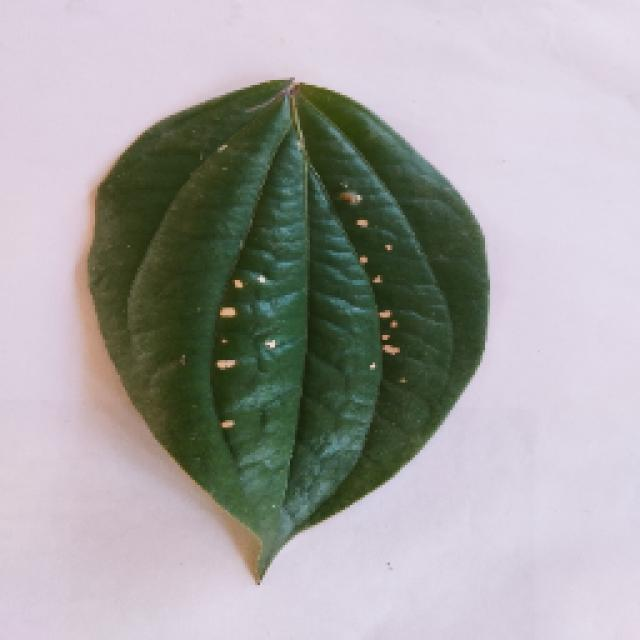pollu-disease: (68, 80, 500, 575)
